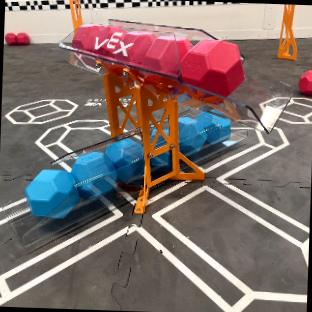V5_BLUE: (25, 170, 77, 217), (71, 152, 116, 198), (107, 139, 144, 180), (179, 117, 206, 153), (198, 112, 230, 142)
V5_RED: (180, 38, 243, 96), (142, 34, 191, 74), (299, 70, 312, 95), (17, 33, 28, 44), (6, 32, 15, 44)
blueingoal: (102, 62, 120, 70)
